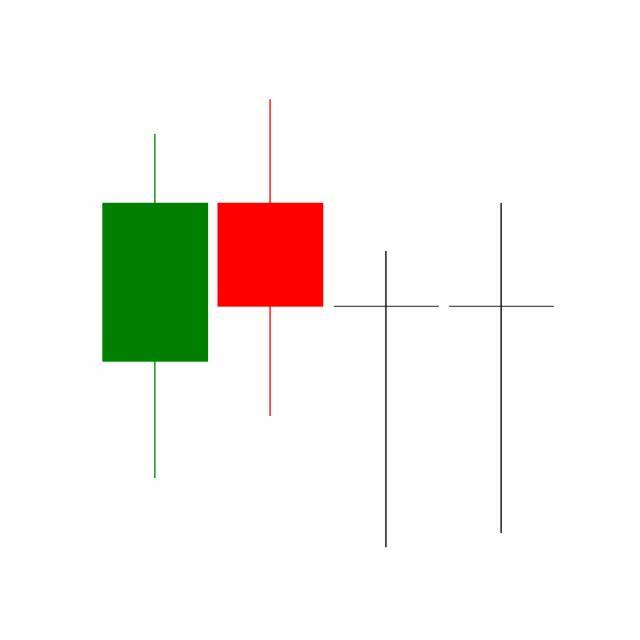Spinning Top: (329, 248, 445, 552)
